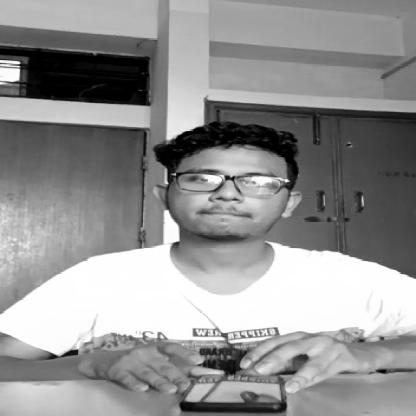Normal: (128, 134, 295, 243)
